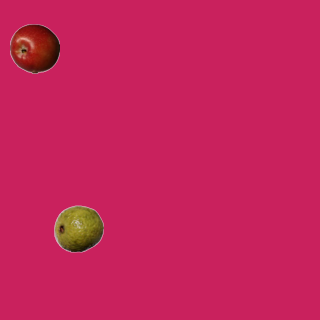Apple Braeburn: (9, 23, 59, 73)
Guava: (53, 203, 103, 253)
